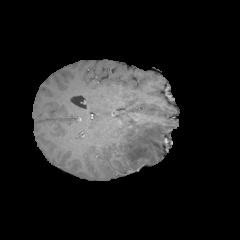glioma: (117, 108, 169, 170)
